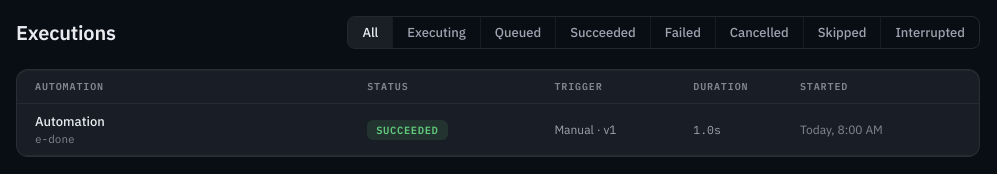
it: executions list status filter (§7) › names the filter in the empty state when nothing matches
Click the button "Cancelled" at (759, 32), box [715,17,803,48]
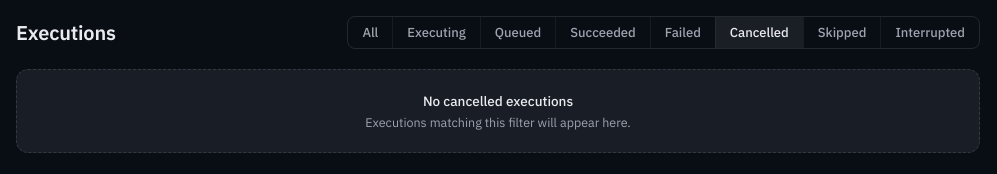
Expected: the text "No cancelled executions" is shown, [423,92,573,110]
